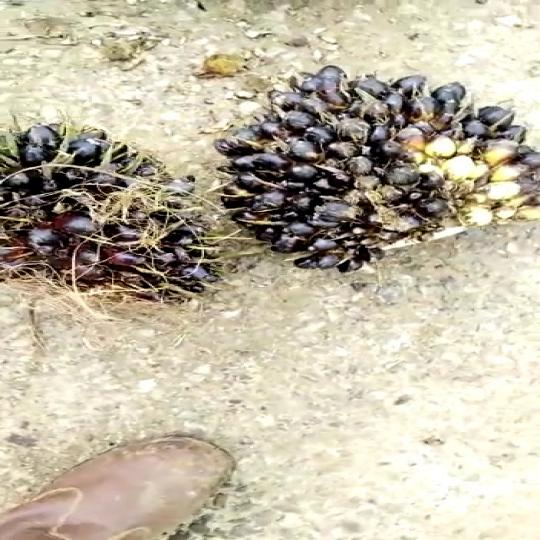mentah: (197, 51, 540, 264), (0, 112, 236, 311)
